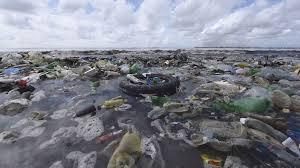Plastic: (95, 125, 145, 167), (211, 91, 273, 122), (121, 72, 174, 98), (71, 101, 105, 125), (102, 96, 126, 117)
